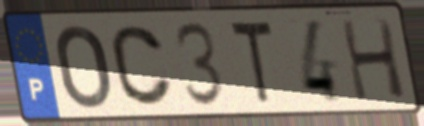3: (174, 20, 226, 109)
4: (294, 16, 346, 106)
C: (108, 23, 176, 108)
H: (337, 17, 409, 104)
O: (52, 22, 114, 112)
T: (226, 18, 276, 109)
